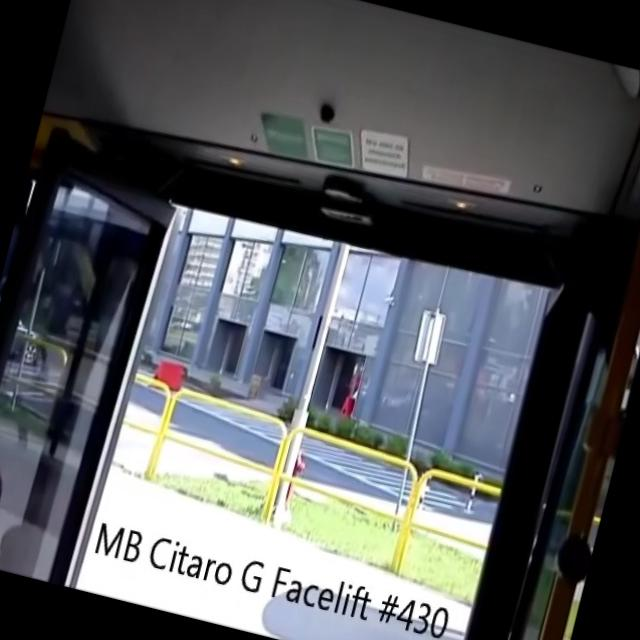bus-door: (0, 134, 173, 584), (464, 283, 600, 640)
